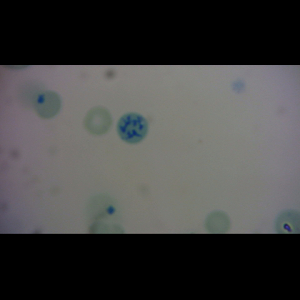aggregate reticulocyte: (115, 112, 150, 145)
erythrocyte: (83, 105, 114, 137), (33, 90, 63, 120), (205, 210, 232, 234)
